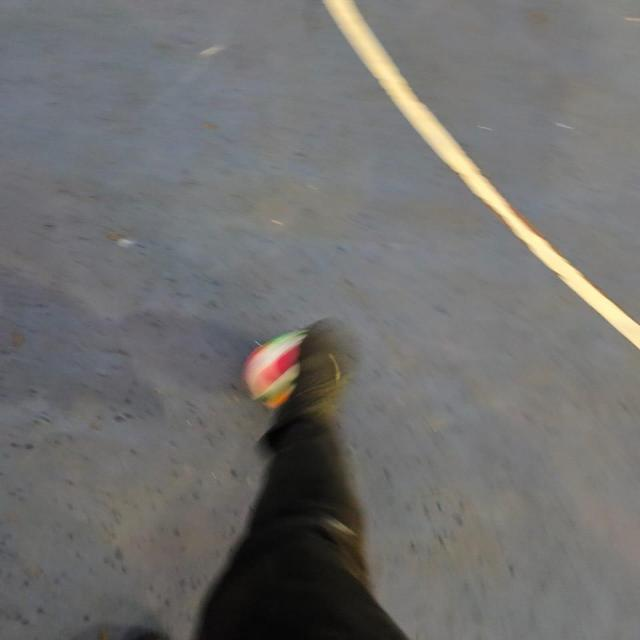volleyball: (242, 328, 310, 412)
